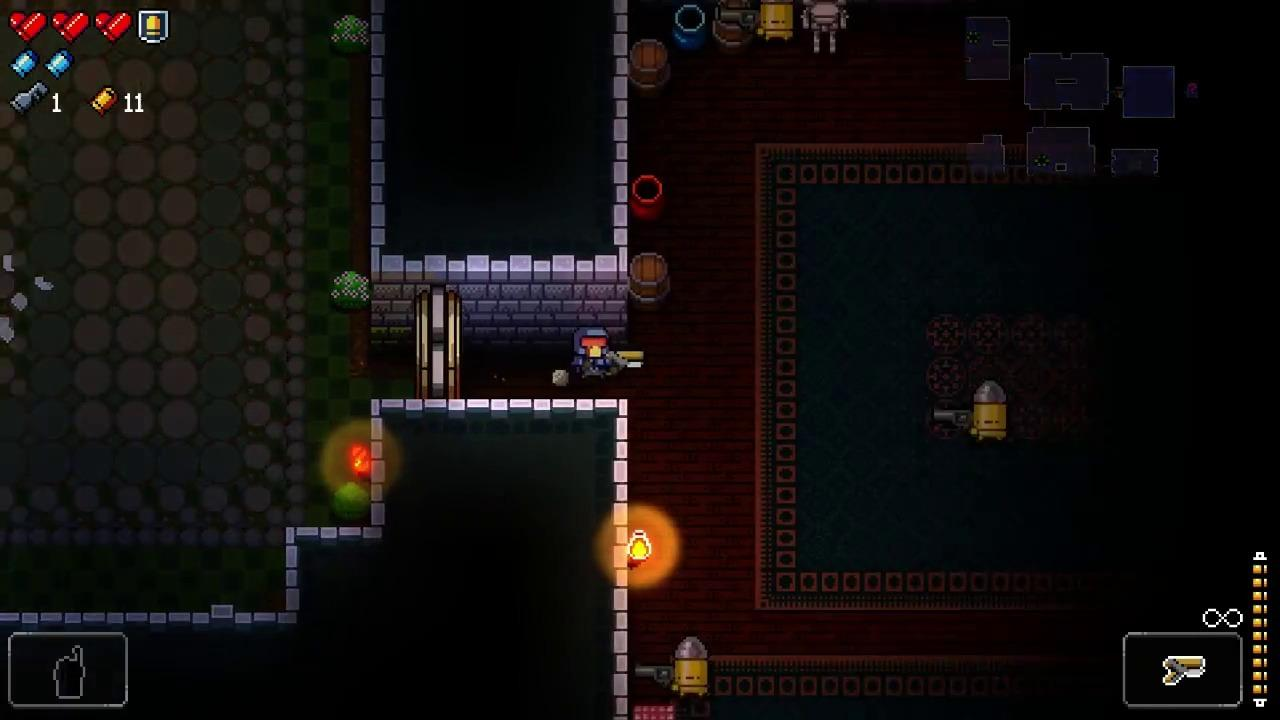bullet_kin: (675, 637, 708, 698), (974, 382, 1006, 442), (757, 0, 794, 41)
locked_door: (416, 286, 461, 402)
player: (571, 325, 613, 382)
